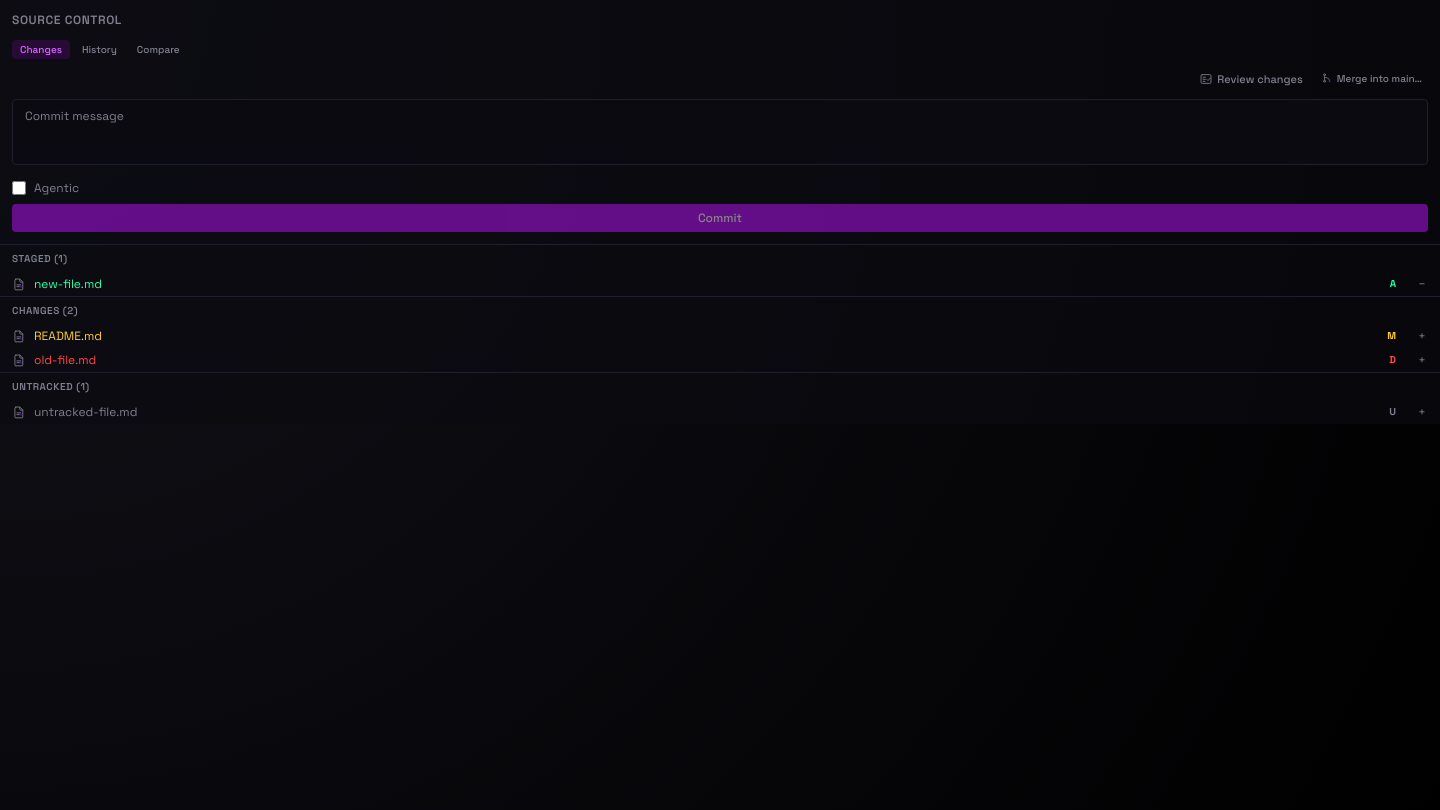
Test: SourceControlPanel › says an untracked file is deleted from disk, because git has no copy
Step 1. Right-click the text "untracked-file.md" → (86, 412), box top-left (34, 404), bottom-right (137, 420)
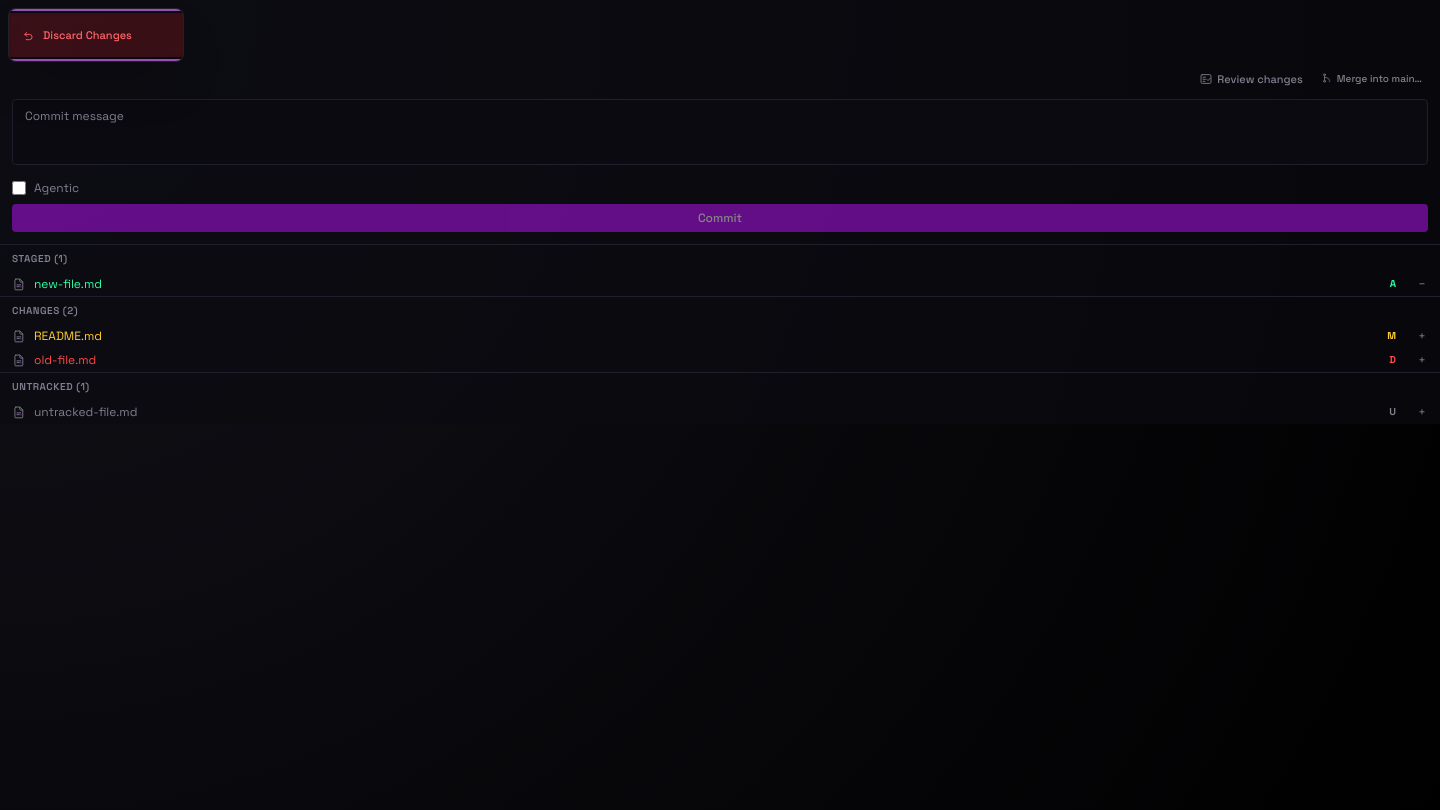
Step 2. Click the menu item "Discard Changes" → click(96, 35), box top-left (9, 13), bottom-right (183, 57)
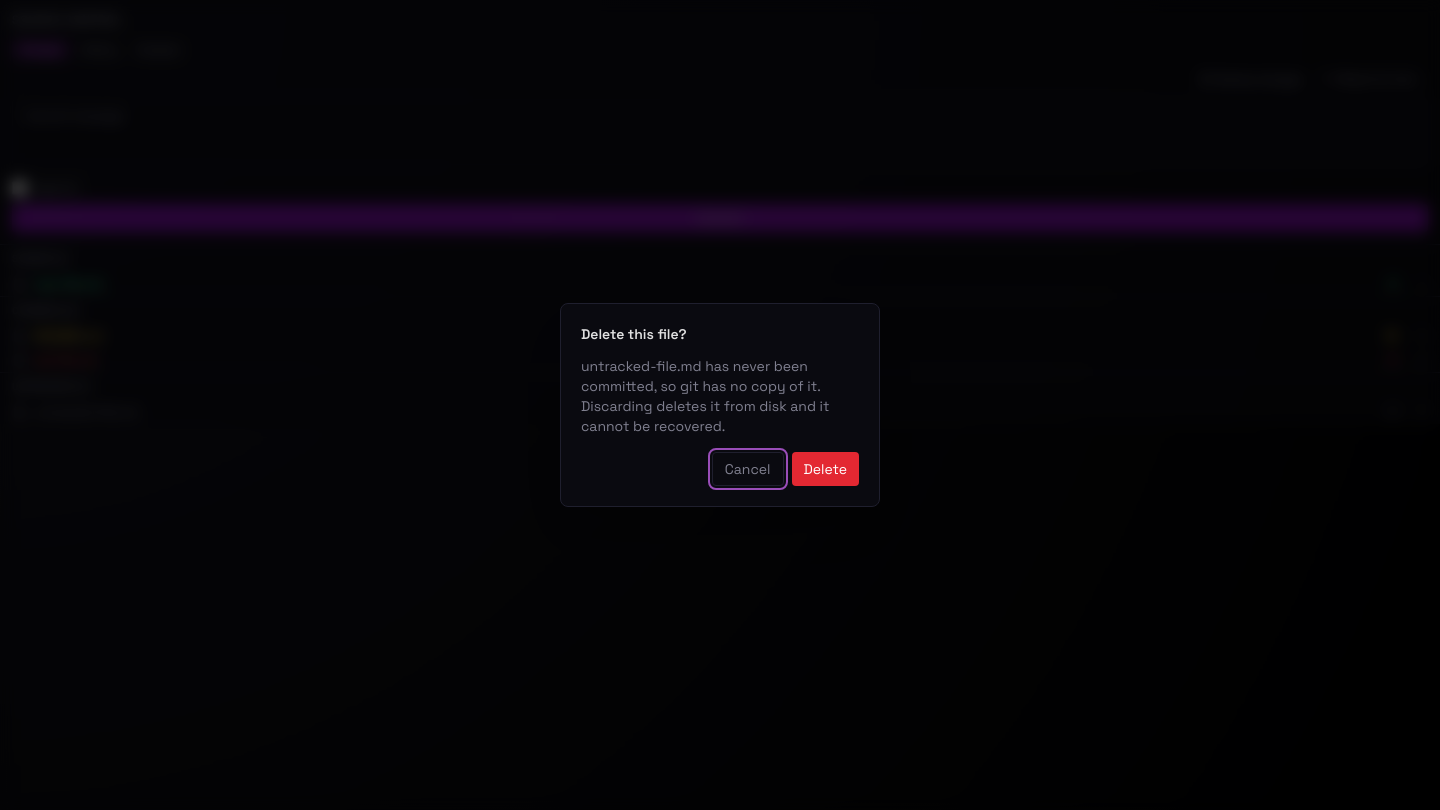
Now the dialog shows "untracked-file.md", box top-left (581, 357), bottom-right (829, 435)
Now the dialog shows "Delete", box top-left (792, 452), bottom-right (859, 486)
